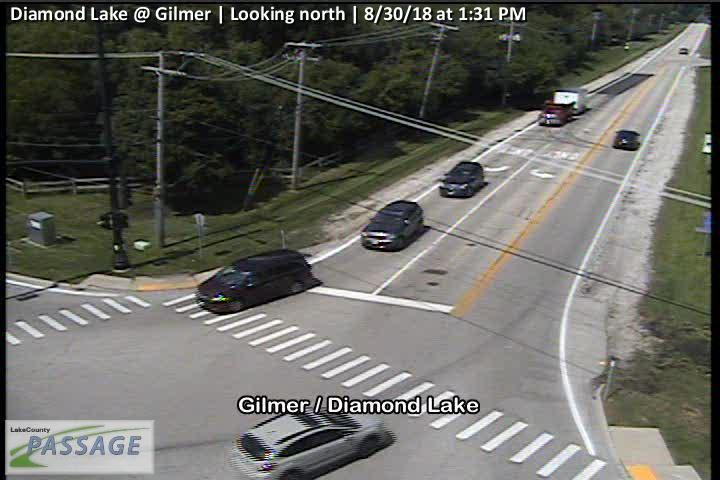SUV: (232, 407, 393, 480), (198, 247, 319, 314), (360, 200, 423, 250), (440, 161, 484, 198)
Sedan: (613, 130, 641, 150), (679, 47, 689, 54)
Truck: (537, 87, 588, 127)
